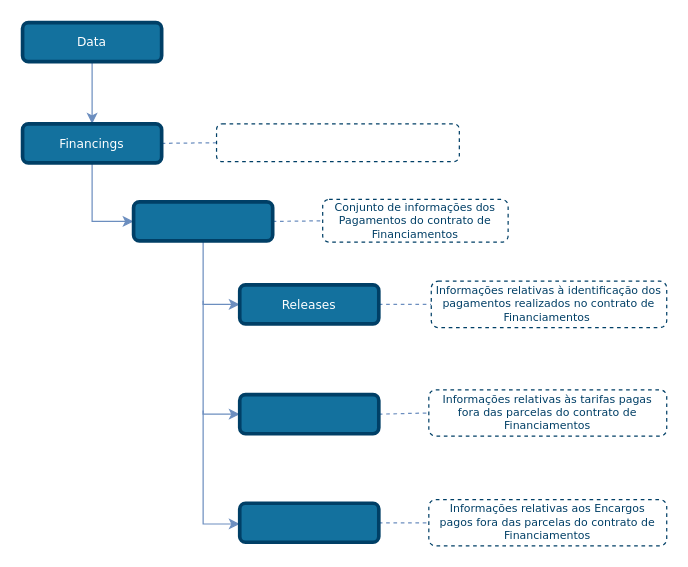
Image size: 688x567. Some labels were removed from this diagram. Each missing label, with the centre of its shape:
Charges over Parcel: pixel 308 413
Conjunto das informações de Operações de Crédito de Financiamentos: pixel 337 142
Payments: pixel 202 220
Taxes over Parcel: pixel 308 522
